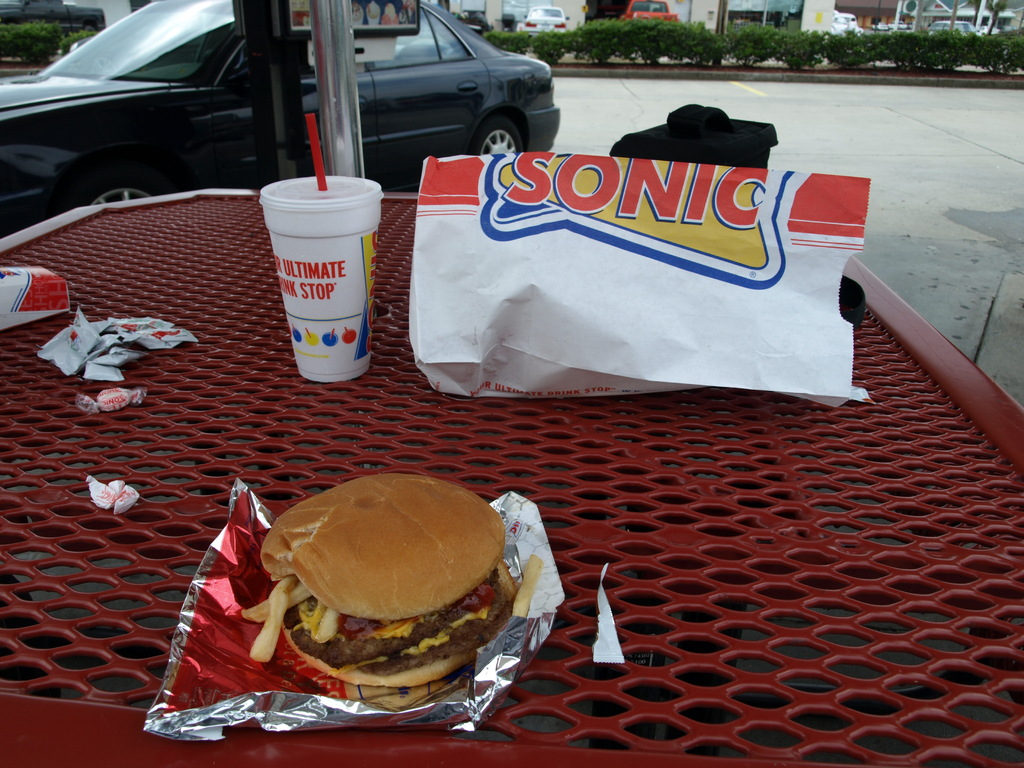Hamburger: (247, 477, 513, 689)
